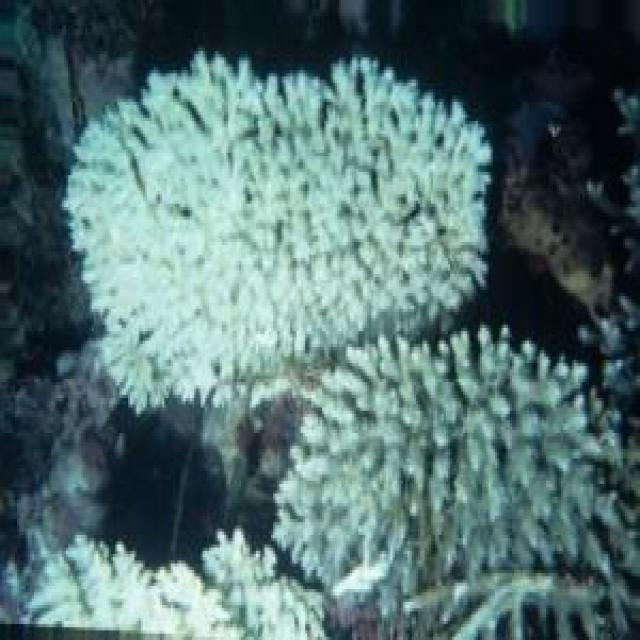bleached coral: (66, 54, 490, 410), (275, 328, 592, 594), (30, 528, 325, 639)
